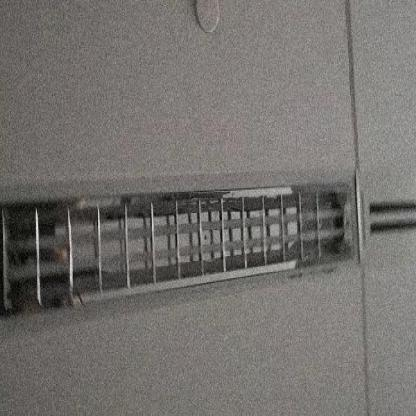light_off: (0, 137, 368, 332)
